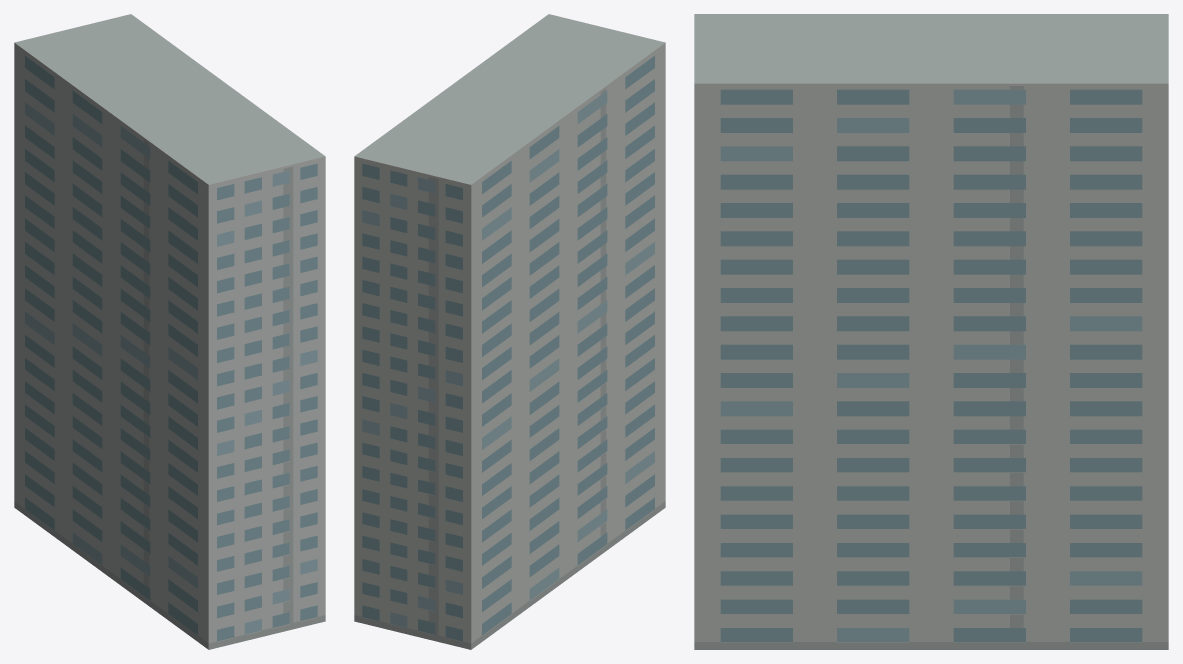
File: residential-8068be83-d72d-485a-84bf-3f8a6119deed.glb
3 views of the same model, side by side, from view 1: azimuth 30°, elevation 25°; view 2: azimuth 150°, elevation 25°; view 3: azimuth 270°, elevation 25° (orthographic). The views are drawn at different scales.
Parts seen in each view (by area): view 1: residential-8068be83-d72d-485a-84bf-3f8a6119deed.tmp; view 2: residential-8068be83-d72d-485a-84bf-3f8a6119deed.tmp; view 3: residential-8068be83-d72d-485a-84bf-3f8a6119deed.tmp.
Part boxes in pixels (x1=…): residential-8068be83-d72d-485a-84bf-3f8a6119deed.tmp: x1=14, y1=14, x2=325, y2=649; residential-8068be83-d72d-485a-84bf-3f8a6119deed.tmp: x1=354, y1=14, x2=665, y2=649; residential-8068be83-d72d-485a-84bf-3f8a6119deed.tmp: x1=694, y1=14, x2=1168, y2=649.
Bounding box in the file's own units: 14.24 × 54 × 40.98.
